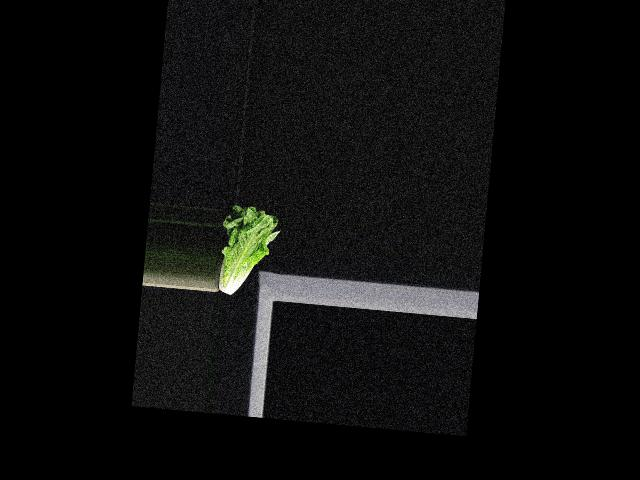lettuce: (216, 202, 281, 299)
